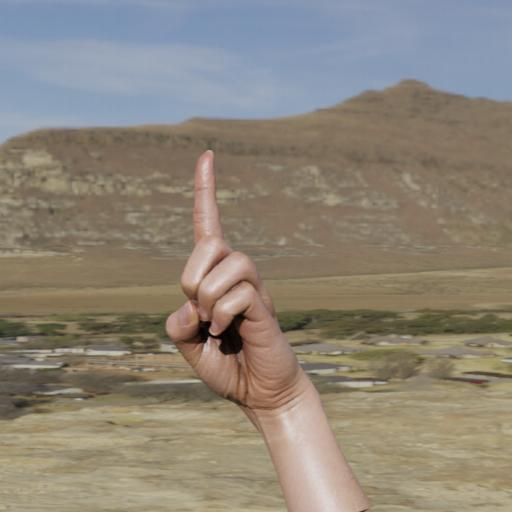D: (164, 143, 303, 423)
